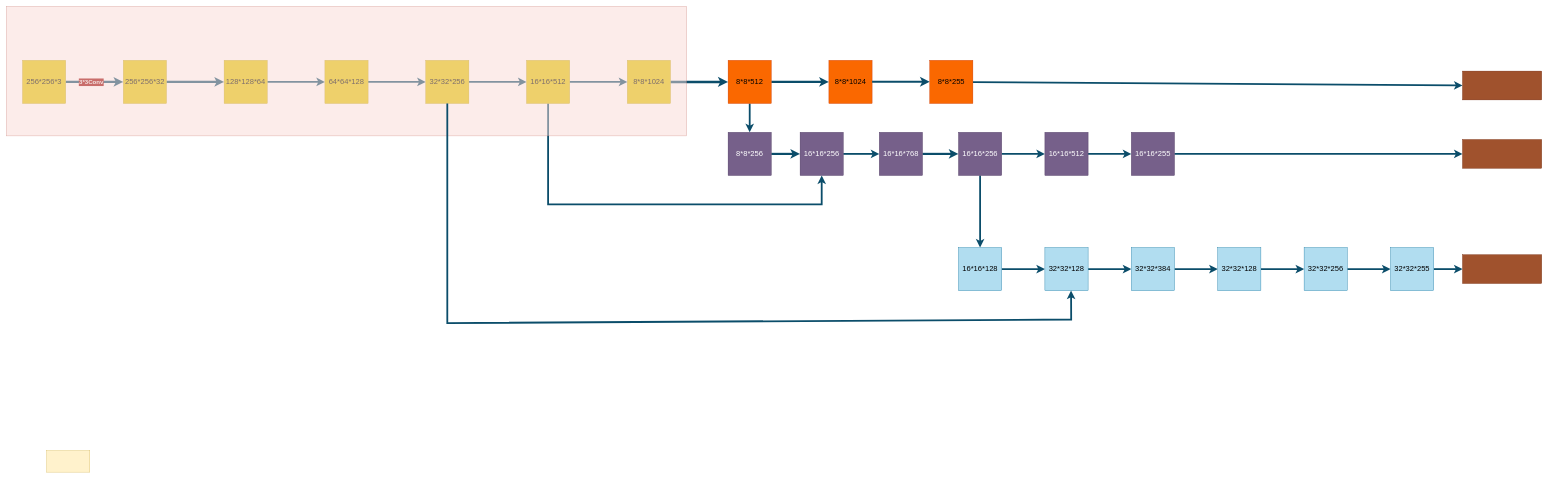
The diagram is 1548 pixels wide and 478 high, and some of its shapes have lost their labels. Here are the shapes that lost their labels. From the top down, the centre of each, then its label:
At (1502,85): "Feature Map 1".
At (1502,153): "Feature Map 2".
At (1502,269): "Feature Map 3".
